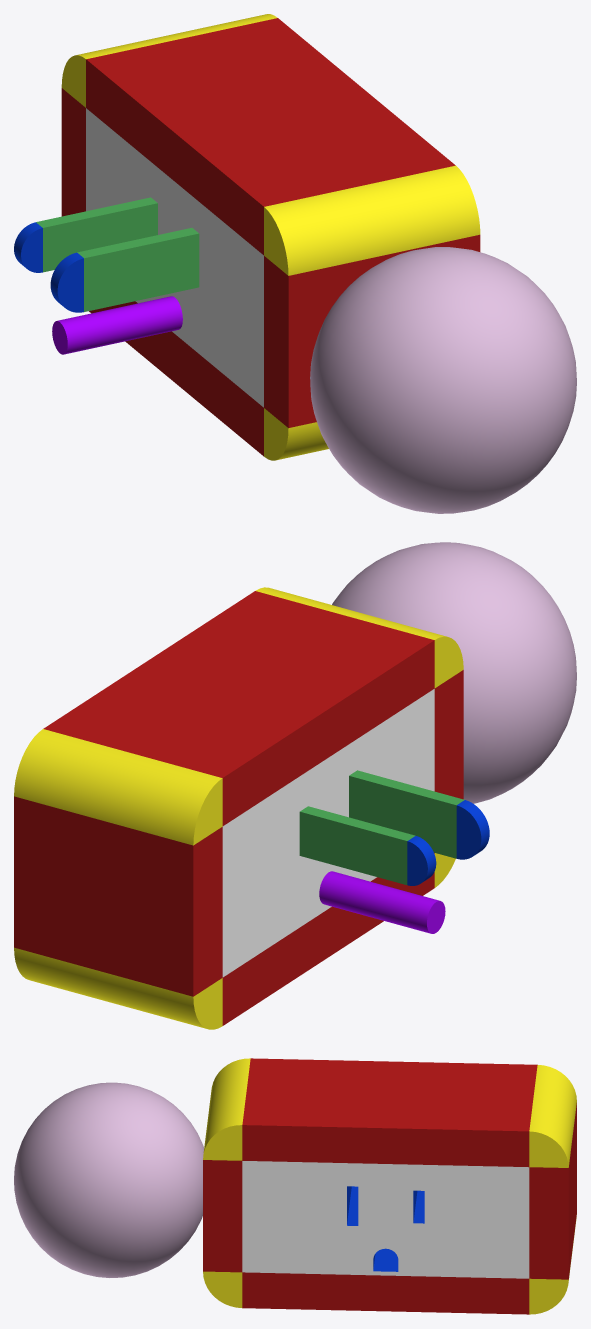
File: Case_Study_SmartSwitch_10B.glb
3 renders of one model, top to bottom at view 1: azimuth 30°, elevation 25°; view 2: azimuth 150°, elevation 25°; view 3: azimuth 270°, elevation 25°, orthographic. The views are drawn at different scales.
Visible parts, largest first — view 1: Part 2, Part 11, Part, Part 7, Part 8, Part 9, Part 6; view 2: Part 2, Part 11, Part, Part 7, Part 8, Part 9, Part 6; view 3: Part 2, Part 7, Part 11, Part, Part 6.
Part boxes in pixels (x1,y1,x2,y2): Part 2: (61, 18, 480, 456); Part 11: (310, 247, 576, 513); Part: (61, 14, 480, 460); Part 7: (86, 108, 263, 407); Part 8: (36, 197, 199, 311); Part 9: (52, 296, 182, 354); Part 6: (14, 222, 83, 312); Part 2: (14, 591, 463, 1025); Part 11: (332, 542, 576, 803); Part: (14, 587, 463, 1029); Part 7: (222, 689, 434, 977); Part 8: (299, 770, 464, 884); Part 9: (319, 871, 445, 933); Part 6: (407, 800, 489, 885); Part 2: (203, 1058, 576, 1314); Part 7: (242, 1161, 529, 1278); Part 11: (14, 1082, 203, 1277); Part: (203, 1058, 576, 1314); Part 6: (347, 1186, 424, 1271).
Bounding box in the file's own units: 0.0574 × 0.0406 × 0.1132.
